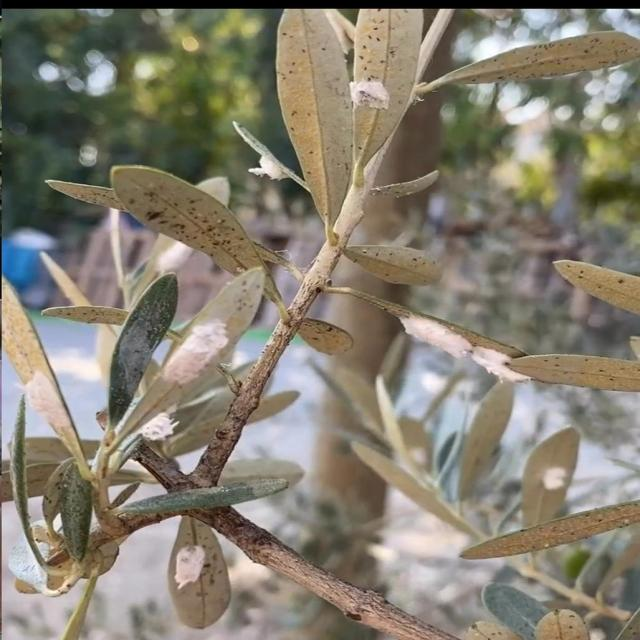Psyllid: (123, 268, 265, 427), (382, 303, 546, 384), (167, 532, 226, 626), (23, 371, 77, 439), (244, 136, 303, 186), (525, 464, 573, 509), (153, 241, 197, 276), (136, 412, 179, 442), (350, 79, 389, 110)
